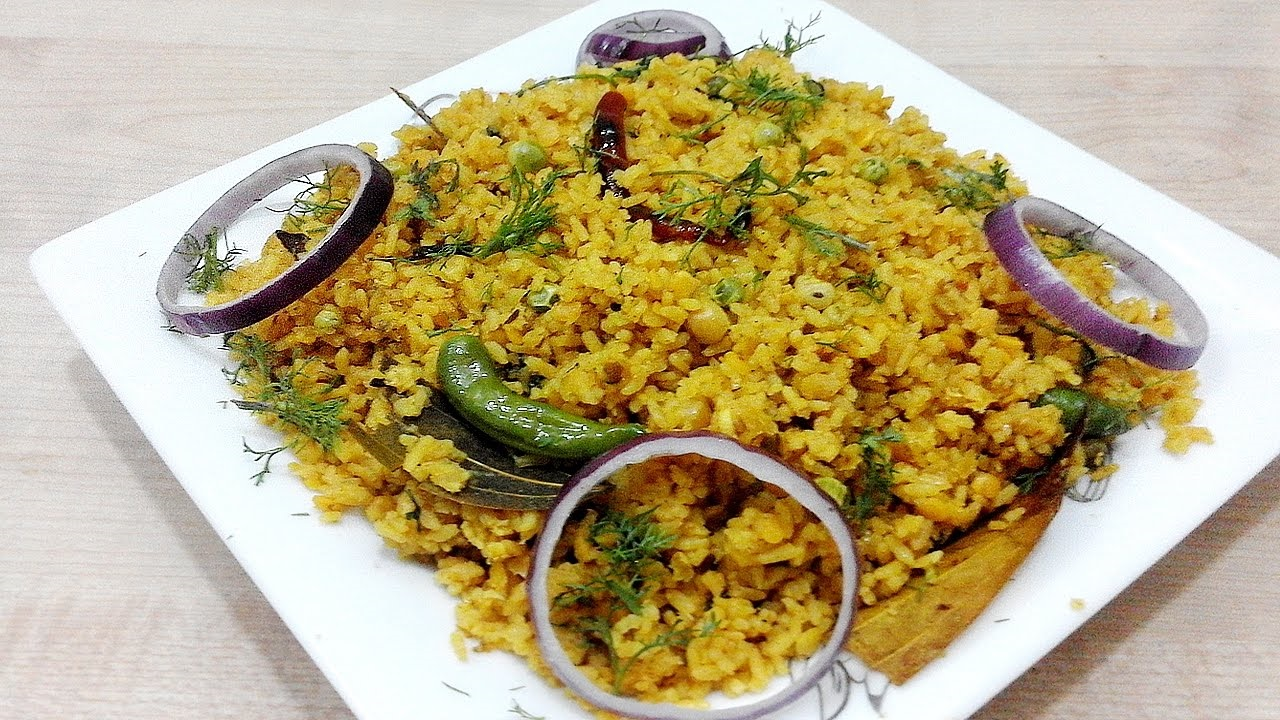khichuri: (202, 42, 1248, 686)
